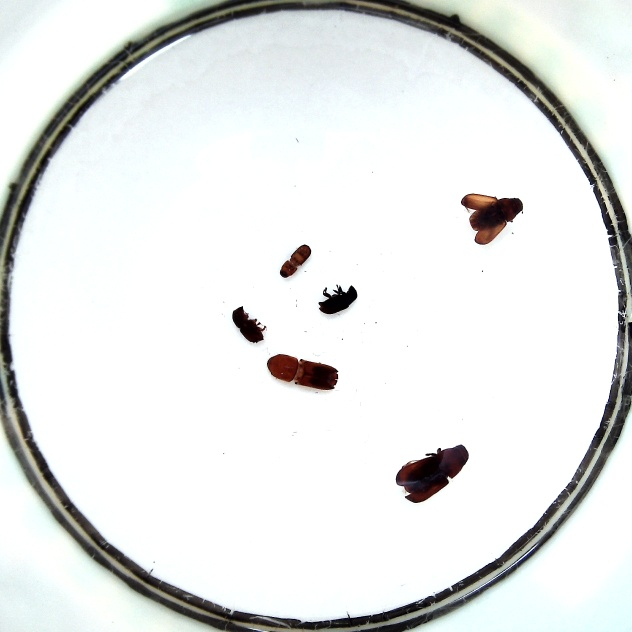acuminatus: (278, 242, 311, 279)
armandi: (317, 283, 359, 315)
boerner: (265, 352, 338, 393)
leconte: (394, 443, 470, 503), (460, 191, 523, 246)
linnaeus: (232, 306, 266, 344)
